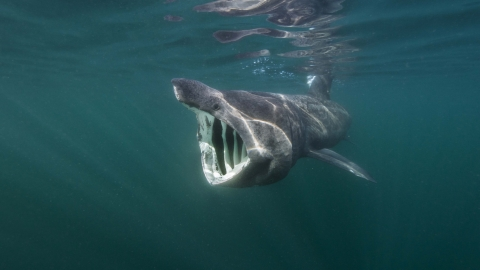shark: (159, 69, 384, 202)
